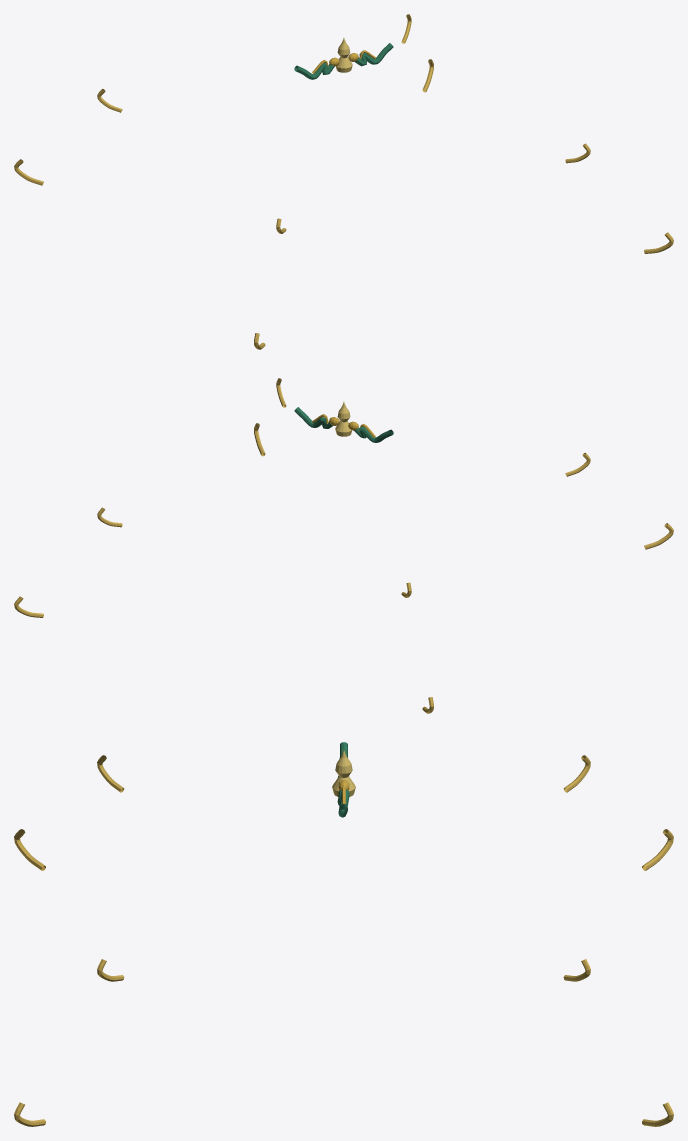
Rendered from thieutri-hero.glb.
3 renders of one model, top to bottom at view 1: azimuth 30°, elevation 25°; view 2: azimuth 150°, elevation 25°; view 3: azimuth 270°, elevation 25°, orthographic. The views are drawn at different scales.
Visible parts, largest first — view 1: thieutri_hero_ornaments; view 2: thieutri_hero_ornaments; view 3: thieutri_hero_ornaments.
Boxes of the visible parts, x1,y1,x2,y2 form: thieutri_hero_ornaments: (14, 14, 673, 349); thieutri_hero_ornaments: (14, 378, 673, 713); thieutri_hero_ornaments: (14, 742, 673, 1126).
Size of the model in its own units: 19.35 by 8.01 by 19.35.
